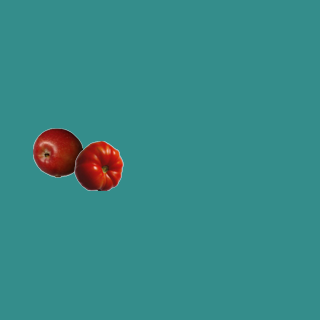Apple Braeburn: (32, 127, 82, 177)
Tomato 3: (73, 140, 123, 190)
